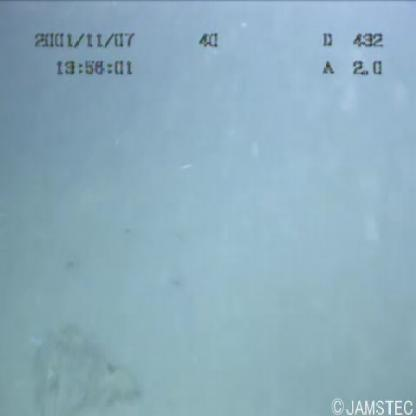Rác: (9, 316, 136, 416)
